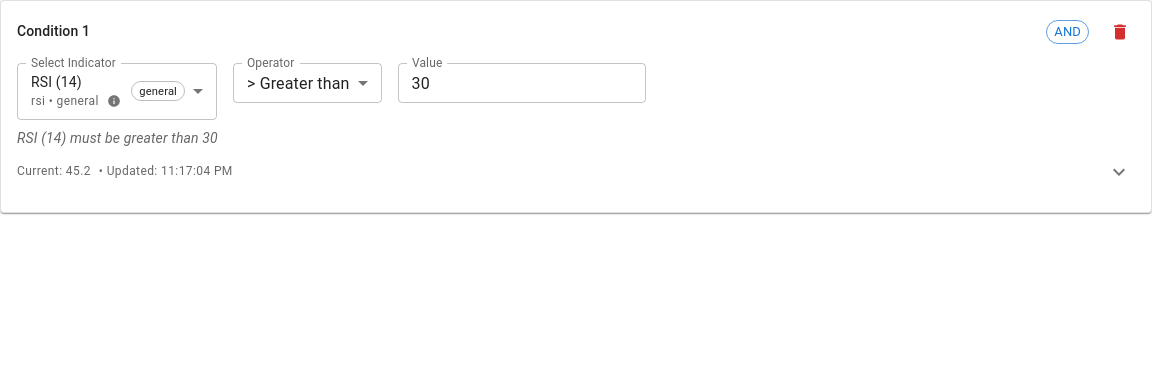
Test: ConditionBlock › Indicator Details › toggles details section on expand click
The width and height of the screenshot is (1152, 384).
Step 1. Click the button with test id "ExpandMoreIcon" → (1119, 172), box [1103,156,1135,188]
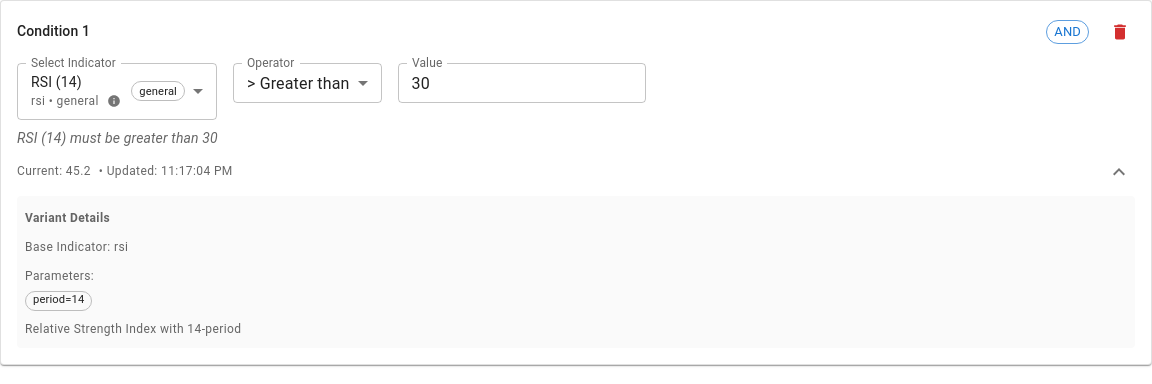
Result: the text "Variant Details" is shown at [25,211,110,225]
